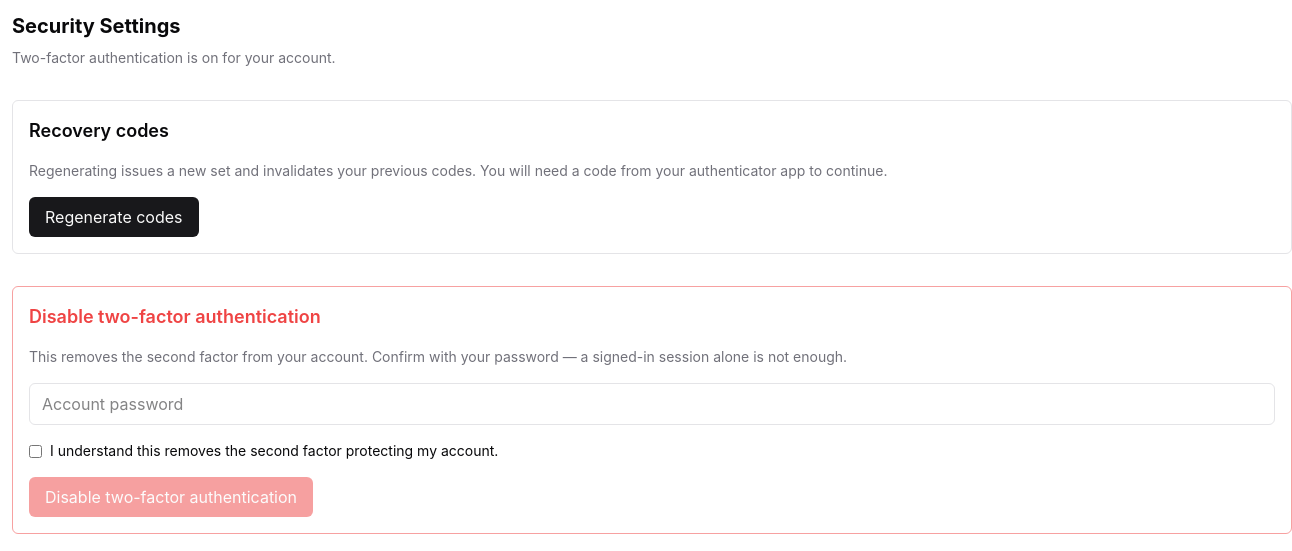
Test: SecuritySettingsPage disable › requires a password and confirmation before disabling
expect the button "Disable two-factor authentication" is disabled: met, box [29,477,313,517]
Type "hunter2xx" into the password field labelled "Account password" at (652, 404), box [29,383,1275,425]
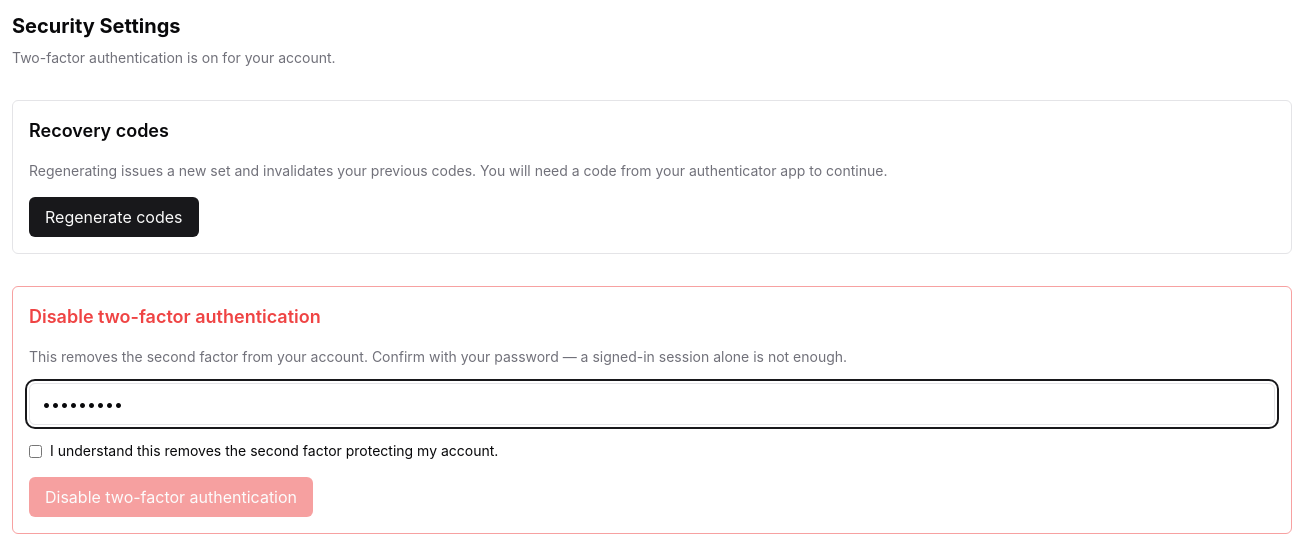
Click the checkbox with test id "disable-confirm" at (36, 452), box [29,445,42,458]
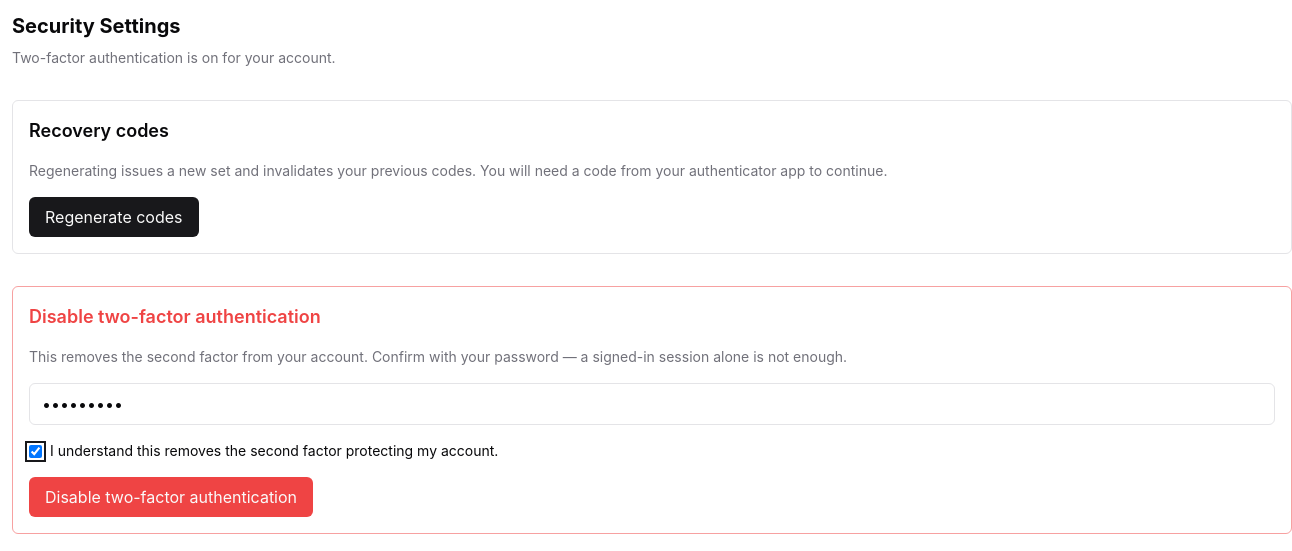
expect the button "Disable two-factor authentication" is enabled: met, box [29,477,313,517]
